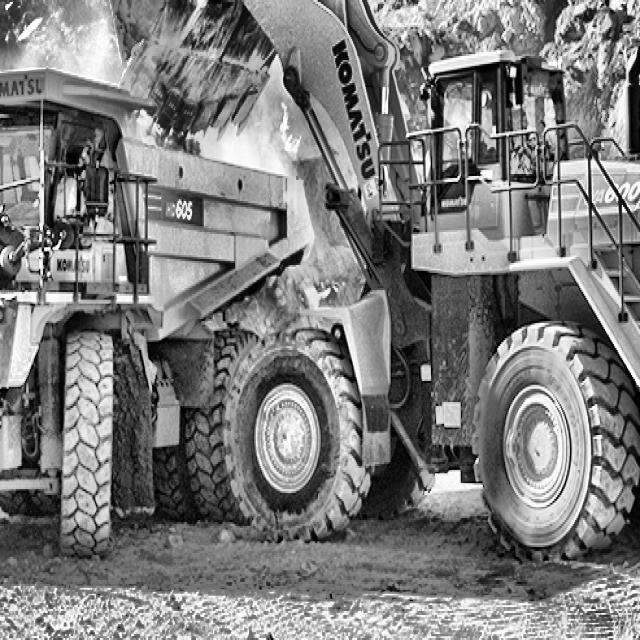buldozerpayloadergrader: (80, 0, 640, 567)
dump_truck: (0, 61, 332, 597)
